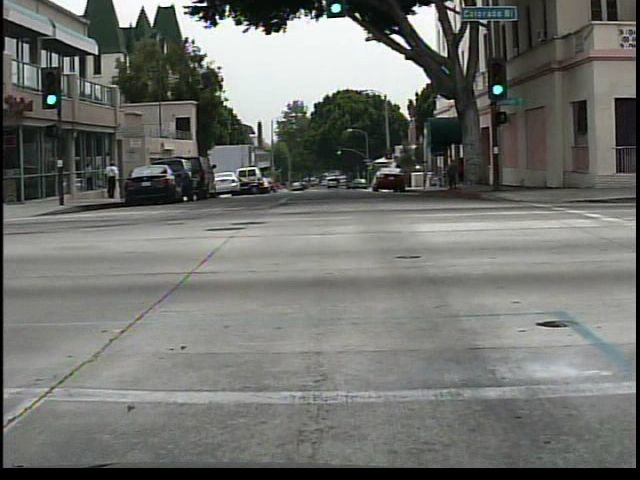person: (104, 154, 122, 200), (442, 159, 460, 193), (456, 152, 457, 194)
